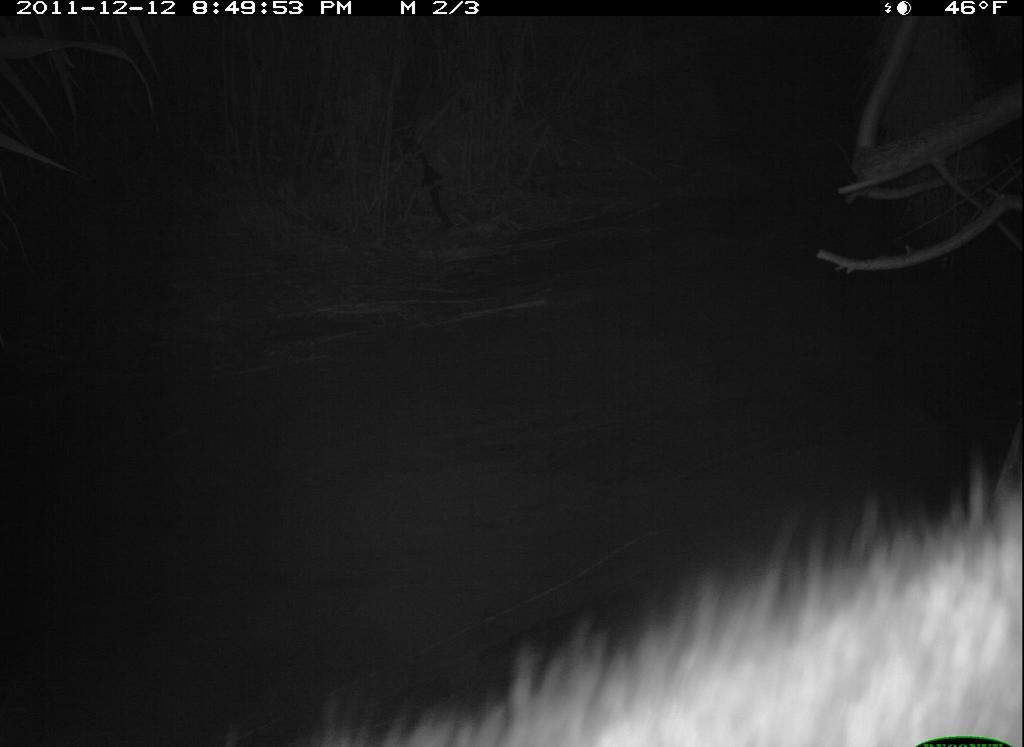raccoon: (274, 440, 1024, 747)
